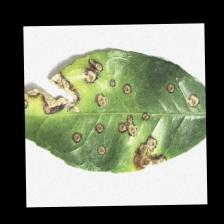canker: (26, 60, 164, 167)
